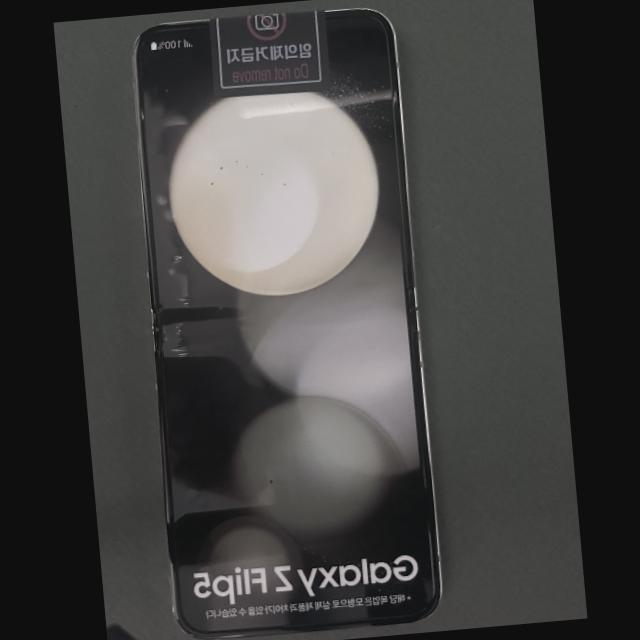phone: (132, 8, 441, 639)
sticker: (209, 11, 329, 98)
